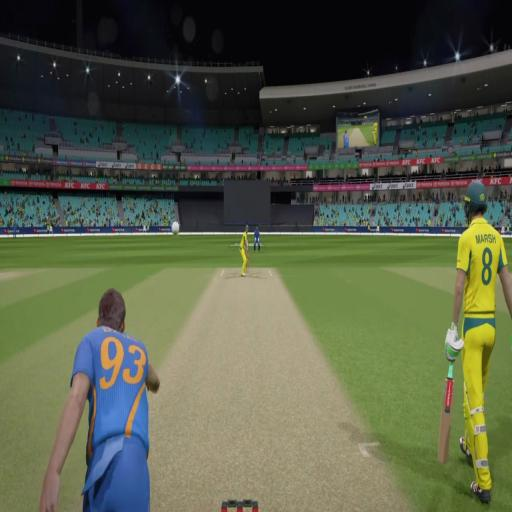ball: (170, 218, 181, 239)
